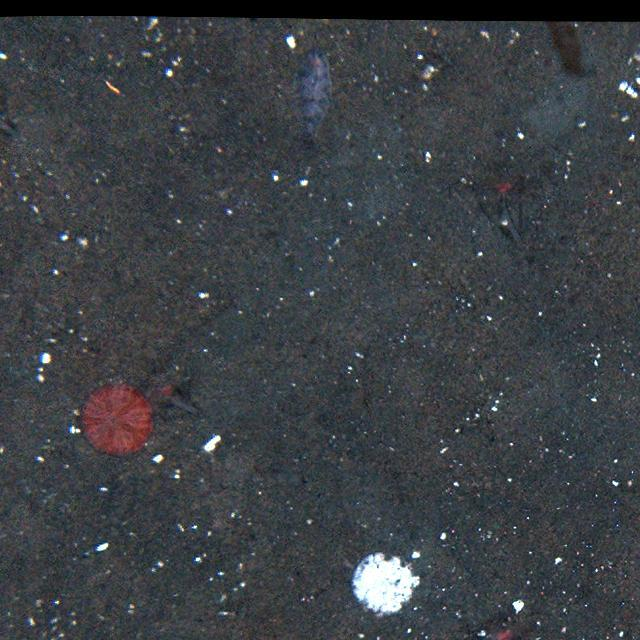flatfish: (298, 44, 338, 144)
